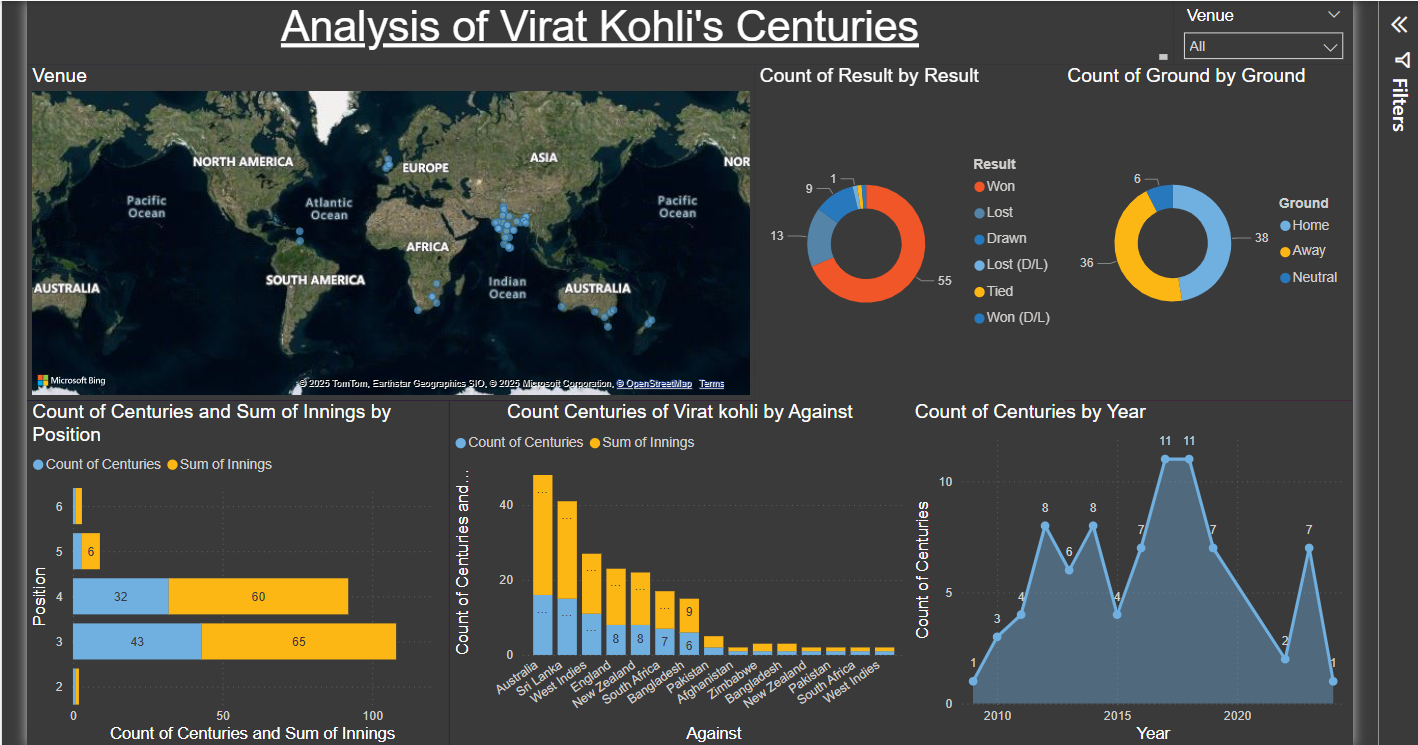

What the dashboard file says about the page in this screenshot:
{"tool":"powerbi","page":{"name":"Page 1","canvas":[1280,720],"ordinal":0},"visuals":[{"type":"columnChart","title":"Count  Centuries of Virat kohli by Against","fields":{"Category":["Virat-Kohli-International-Cricket-Centuries (2).Against"],"Y":["Virat-Kohli-International-Cricket-Centuries (2).Centuries","Virat-Kohli-International-Cricket-Centuries (2).Innings"]},"box":[407.5,385.6,444.6,334.8],"z":0},{"type":"slicer","fields":{"Values":["Virat-Kohli-International-Cricket-Centuries (2).Venue"]},"box":[1106,0,174.3,61.7],"z":1000},{"type":"barChart","fields":{"Y":["Virat-Kohli-International-Cricket-Centuries (2).Centuries","Virat-Kohli-International-Cricket-Centuries (2).Innings"],"Category":["Virat-Kohli-International-Cricket-Centuries (2).Position"]},"box":[0,385.6,407.5,334.8],"z":2000},{"type":"map","fields":{"Category":["Virat-Kohli-International-Cricket-Centuries (2).Venue"]},"box":[0,61.7,702.6,323.8],"z":3000},{"type":"lineChart","fields":{"Category":["Virat-Kohli-International-Cricket-Centuries (2).Date.Variation.Date Hierarchy.Year"],"Y":["Virat-Kohli-International-Cricket-Centuries (2).Centuries"]},"box":[852.1,385.6,428.1,334.8],"z":4000},{"type":"actionButton","box":[0,0,100,40],"z":5000},{"type":"donutChart","fields":{"Category":["Virat-Kohli-International-Cricket-Centuries (2).Ground"],"Y":["Virat-Kohli-International-Cricket-Centuries (2).Ground"]},"box":[999,61.7,281.3,323.8],"z":6000},{"type":"textbox","title":" Analysis of Virat Kohli''s Centuries","box":[0,0,1106,61.7],"z":7000},{"type":"donutChart","fields":{"Category":["Virat-Kohli-International-Cricket-Centuries (2).Result"],"Y":["Virat-Kohli-International-Cricket-Centuries (2).Result"]},"box":[702.6,61.7,299.1,325.2],"z":8000}]}

Visuals, with their boxes on the page's 1280x720 design canvas (x1, y1, x2, y2). These are canvas units, not pixel positions in the 1418x745 screenshot, which may show the page scaled, cropped or inside an application window:
"Count  Centuries of Virat kohli by Against" columnChart: select_region(408, 386, 852, 720)
slicer - Virat-Kohli-International-Cricket-Centuries (2).Venue: select_region(1106, 0, 1280, 62)
barChart - Virat-Kohli-International-Cricket-Centuries (2).Centuries x Virat-Kohli-International-Cricket-Centuries (2).Innings: select_region(0, 386, 408, 720)
map - Virat-Kohli-International-Cricket-Centuries (2).Venue: select_region(0, 62, 703, 386)
lineChart - Virat-Kohli-International-Cricket-Centuries (2).Date.Variation.Date Hierarchy.Year x Virat-Kohli-International-Cricket-Centuries (2).Centuries: select_region(852, 386, 1280, 720)
actionButton: select_region(0, 0, 100, 40)
donutChart - Virat-Kohli-International-Cricket-Centuries (2).Ground x Virat-Kohli-International-Cricket-Centuries (2).Ground: select_region(999, 62, 1280, 386)
" Analysis of Virat Kohli''s Centuries" textbox: select_region(0, 0, 1106, 62)
donutChart - Virat-Kohli-International-Cricket-Centuries (2).Result x Virat-Kohli-International-Cricket-Centuries (2).Result: select_region(703, 62, 1002, 387)
